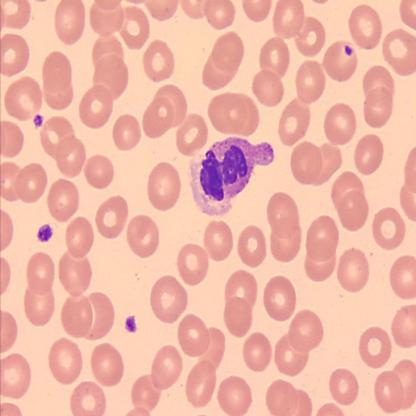Segmented neutrophil: (188, 132, 276, 219)
